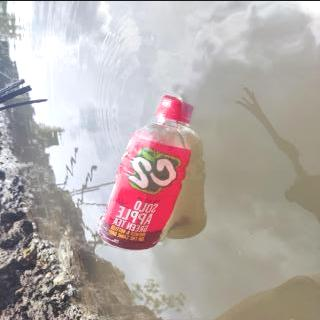bottle: (92, 92, 194, 250)
